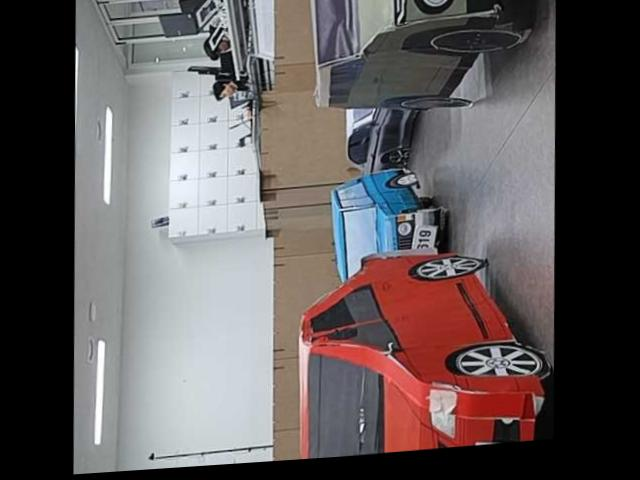car: (286, 237, 558, 460), (300, 0, 533, 124), (326, 159, 449, 278), (341, 98, 421, 175)
id: (410, 220, 439, 252)
